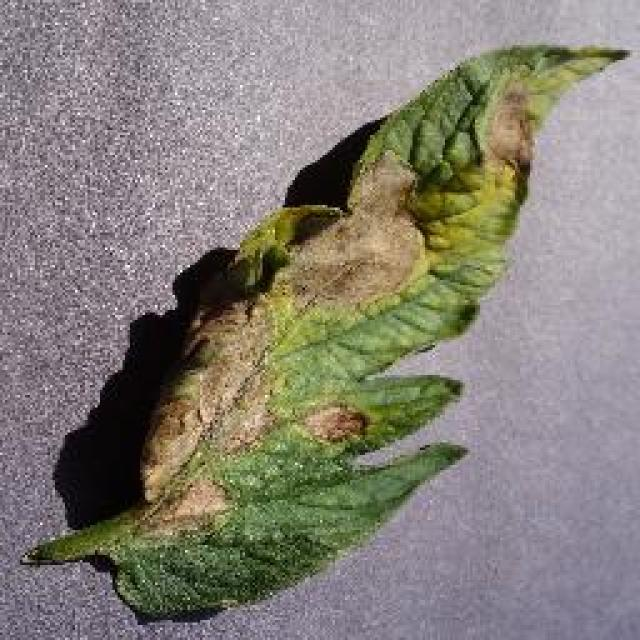Tomato Late Blight: (68, 70, 552, 505)
